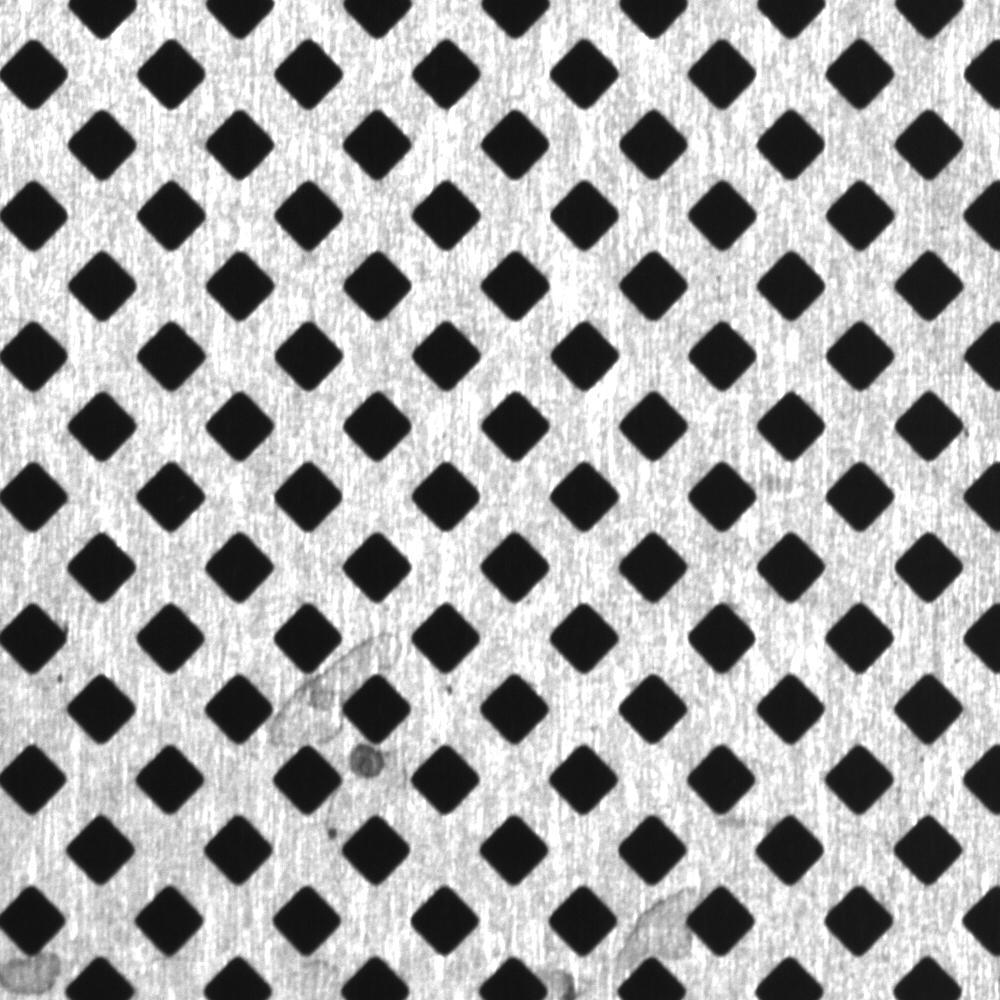Discolor: (260, 667, 337, 748), (619, 889, 699, 956), (2, 937, 85, 995), (339, 608, 406, 678), (342, 737, 394, 790), (544, 956, 591, 998)
